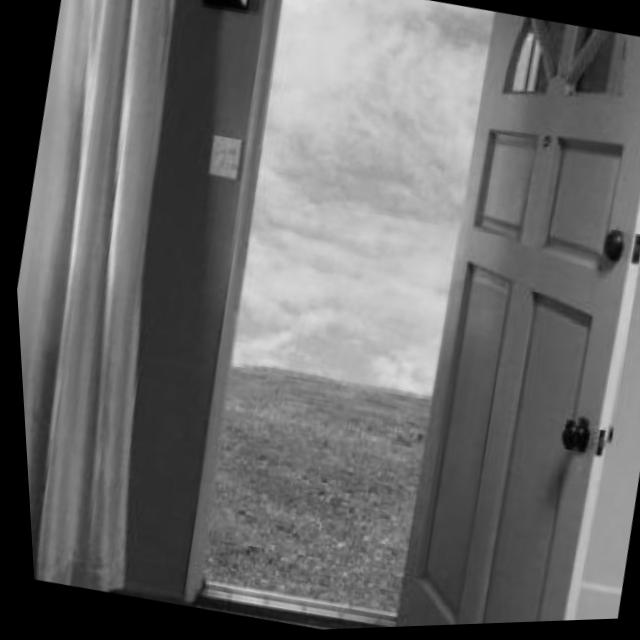door_handle: (535, 406, 596, 474)
